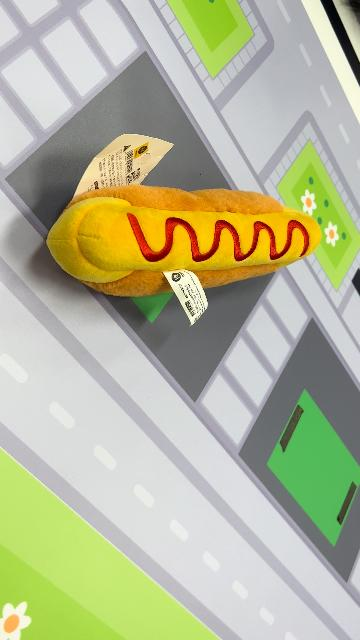hotdog: (45, 184, 323, 298)
